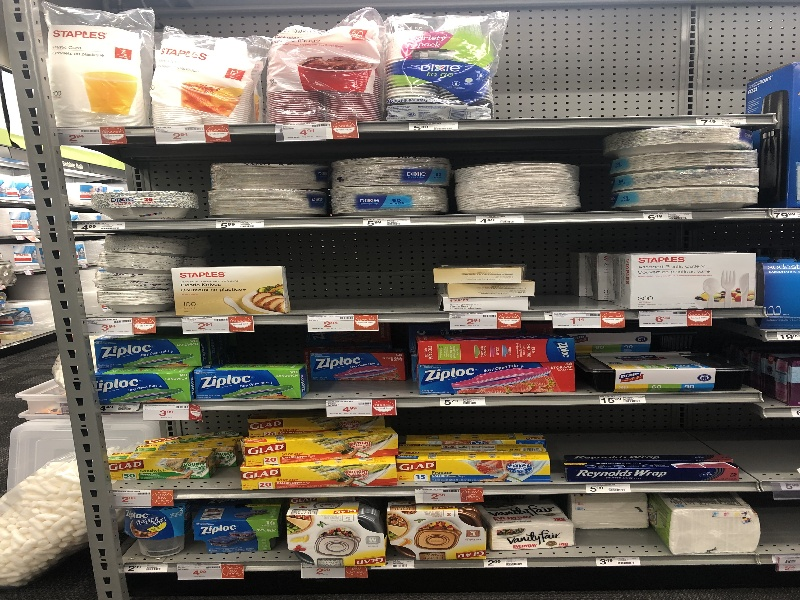void: (499, 2, 758, 124), (288, 225, 433, 313), (736, 401, 800, 490)
